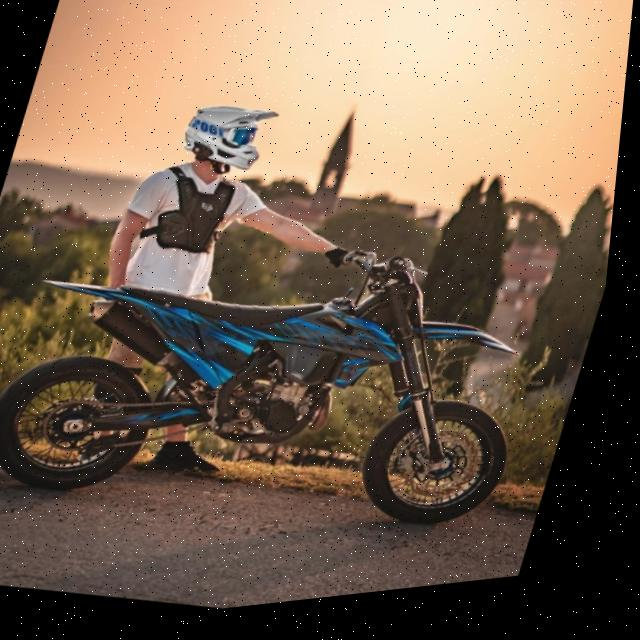illegal_helmet: (172, 93, 294, 196)
